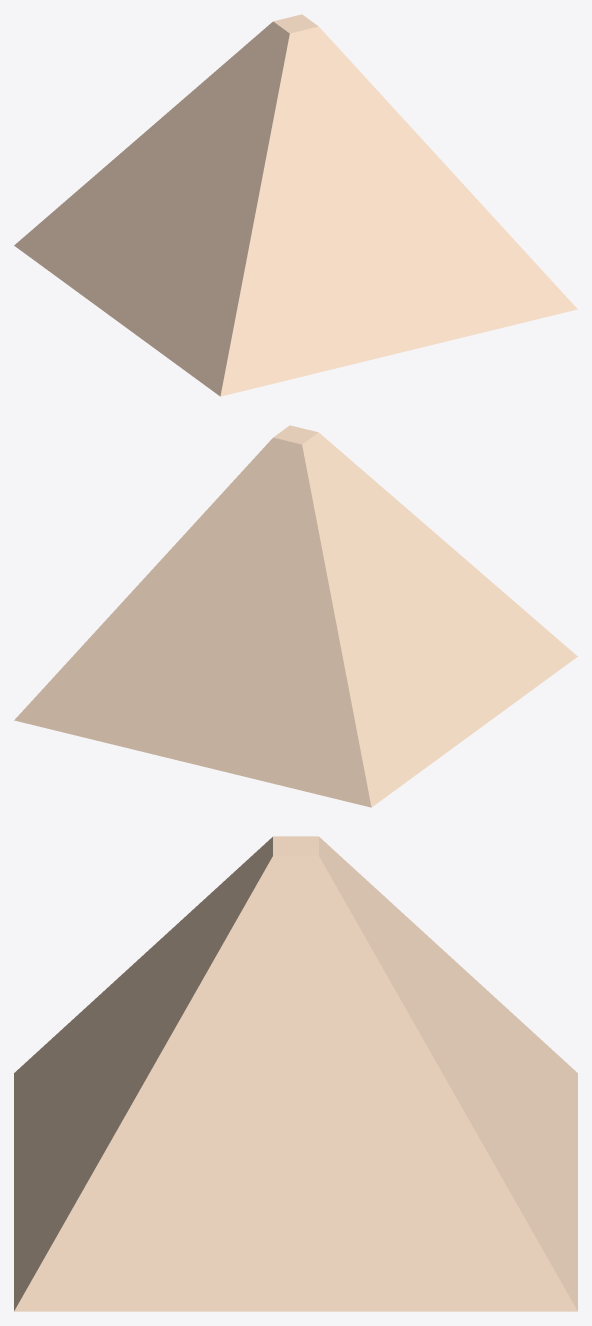
The model's file is Abstract_Castle_Block_1_Unit_Beige_Castle_Top_02.fbx.
3 renders of one model, top to bottom at view 1: azimuth 30°, elevation 25°; view 2: azimuth 150°, elevation 25°; view 3: azimuth 270°, elevation 25°, orthographic. The views are drawn at different scales.
Parts seen in each view (by area): view 1: Abstract_Castle_Block_1_Unit_Beige_Castle_Top_02; view 2: Abstract_Castle_Block_1_Unit_Beige_Castle_Top_02; view 3: Abstract_Castle_Block_1_Unit_Beige_Castle_Top_02.
Boxes of the visible parts, x1,y1,x2,y2 form: Abstract_Castle_Block_1_Unit_Beige_Castle_Top_02: [14, 14, 577, 396]; Abstract_Castle_Block_1_Unit_Beige_Castle_Top_02: [14, 425, 577, 807]; Abstract_Castle_Block_1_Unit_Beige_Castle_Top_02: [14, 836, 577, 1311].
Bounding box in the file's own units: 74.4 × 50.42 × 74.4.
